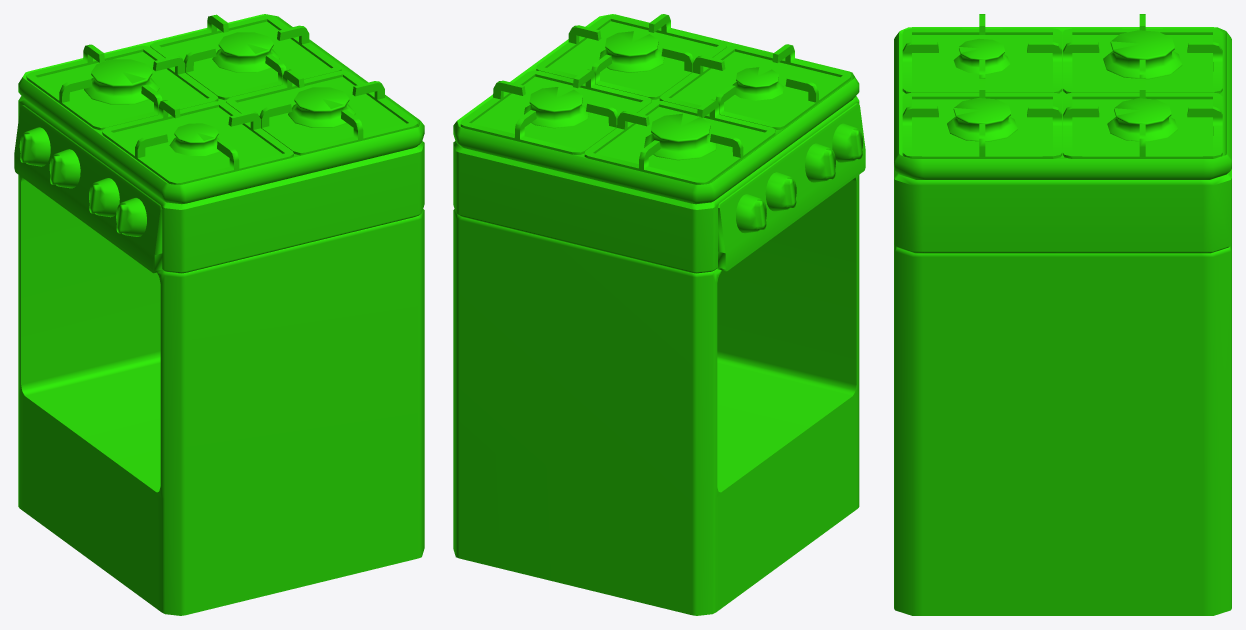
Rendered from Gas_Stove_01_Lod1.fbx.
3 renders of one model, left to right at view 1: azimuth 30°, elevation 25°; view 2: azimuth 150°, elevation 25°; view 3: azimuth 270°, elevation 25°, orthographic. The views are drawn at different scales.
Visible parts, largest first — view 1: Gas_Stove_01_Lod1; view 2: Gas_Stove_01_Lod1; view 3: Gas_Stove_01_Lod1.
Boxes of the visible parts, x1,y1,x2,y2 form: Gas_Stove_01_Lod1: [14, 14, 424, 615]; Gas_Stove_01_Lod1: [453, 14, 865, 615]; Gas_Stove_01_Lod1: [894, 14, 1231, 615].
Size of the model in its own units: 62.88 by 93.72 by 60.66.
